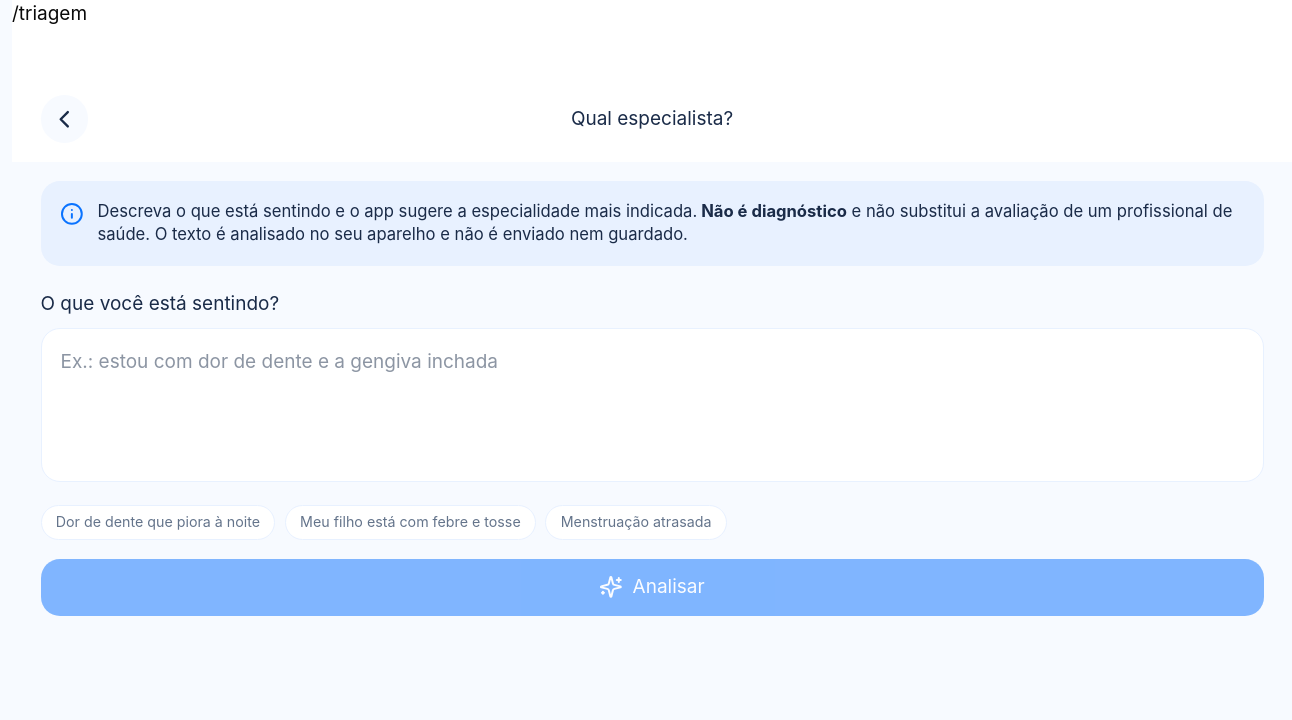
Scenario: tela de triagem › em emergência mostra os telefones e não oferece agendamento
The image size is (1292, 720).
Type "dor forte no peito" into the text box labelled "O que você está sentindo?" at (652, 405), box [40,328,1264,482]
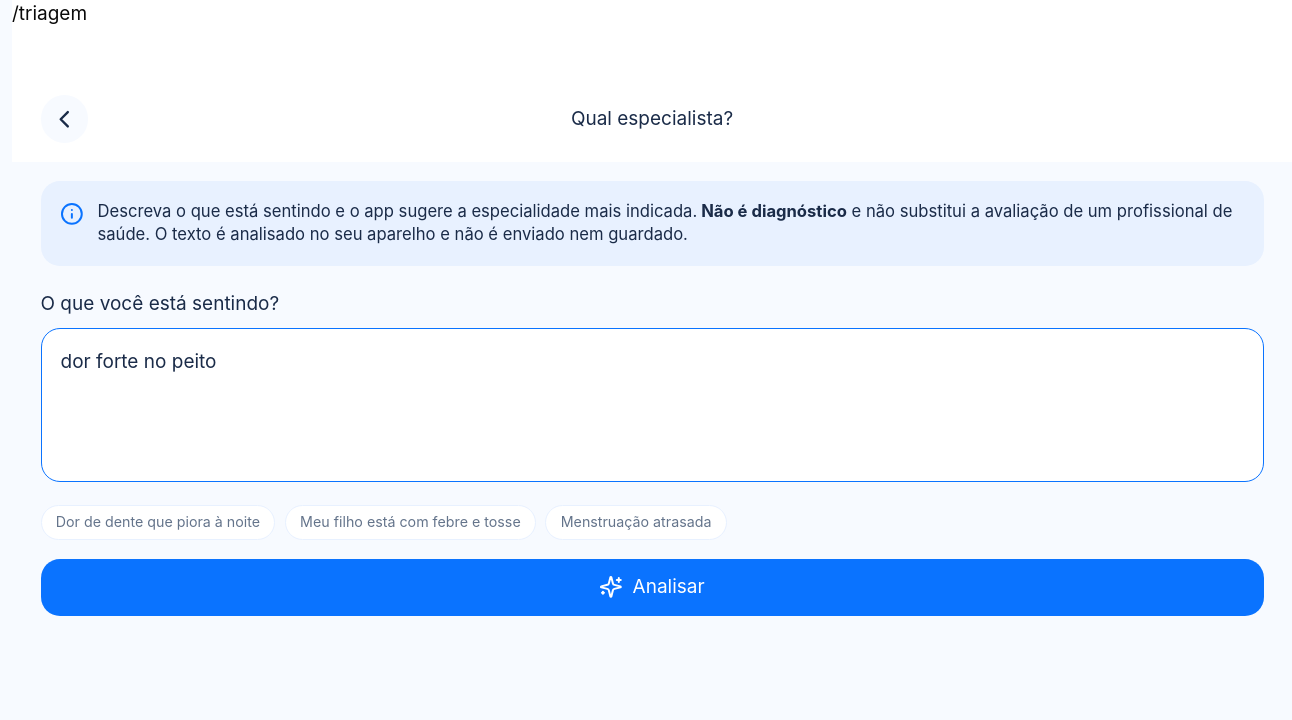
Click the button "Analisar" at (652, 587), box [40,559,1264,616]
(page scrolled)
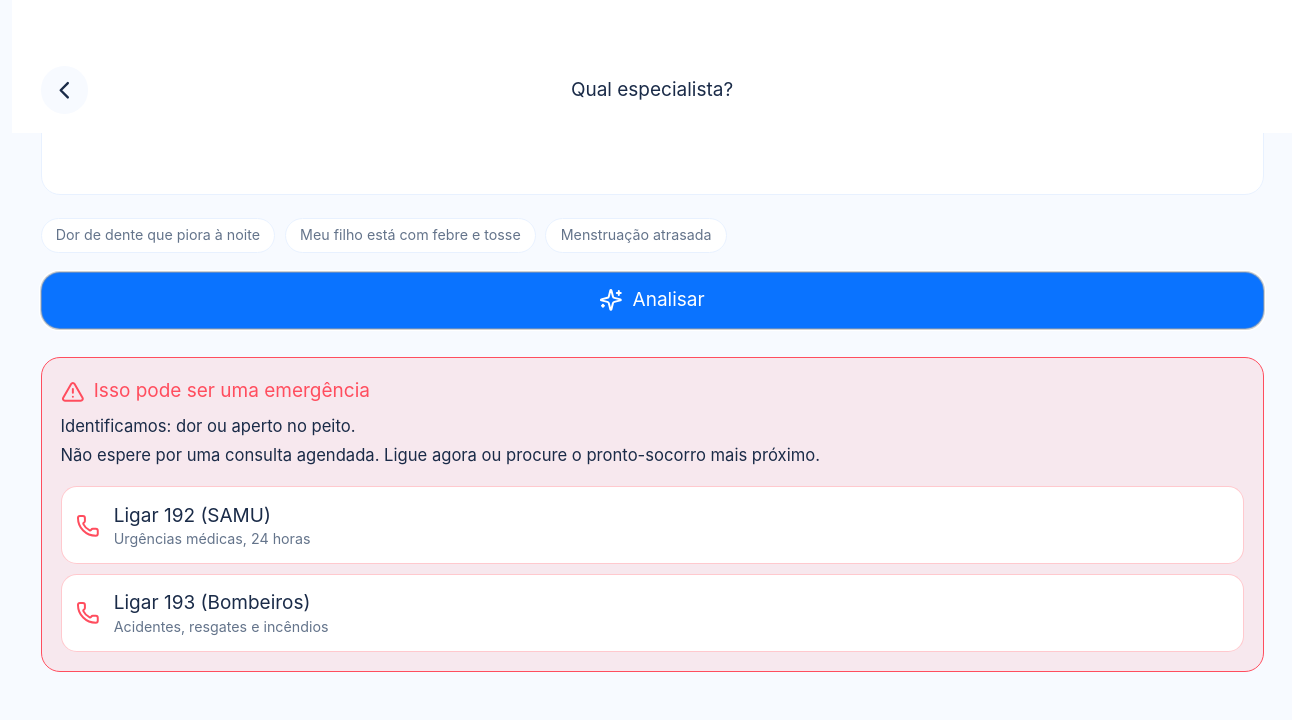
Expected: the message shows "192", [60,486,1244,564]
